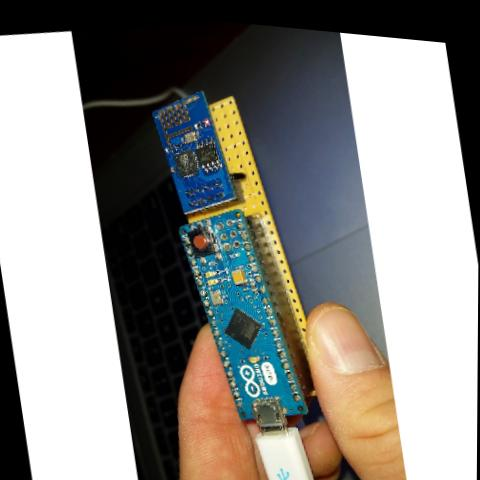Arduino-Micro: (165, 188, 318, 439)
